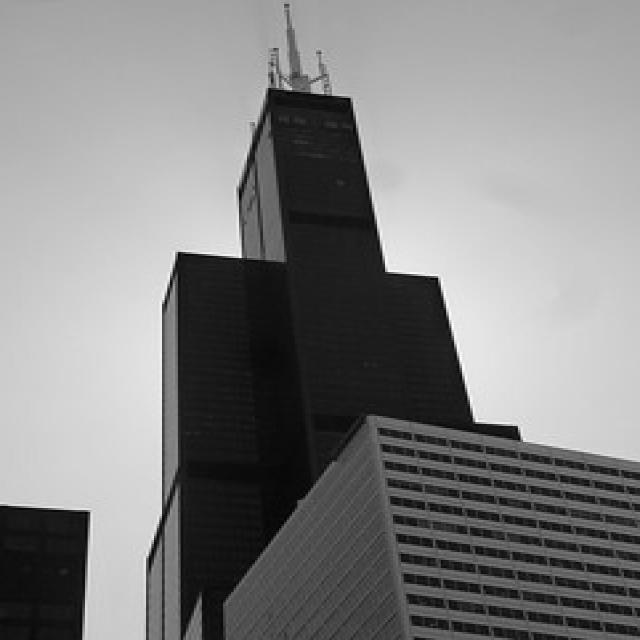Normal_building: (150, 78, 522, 640)
